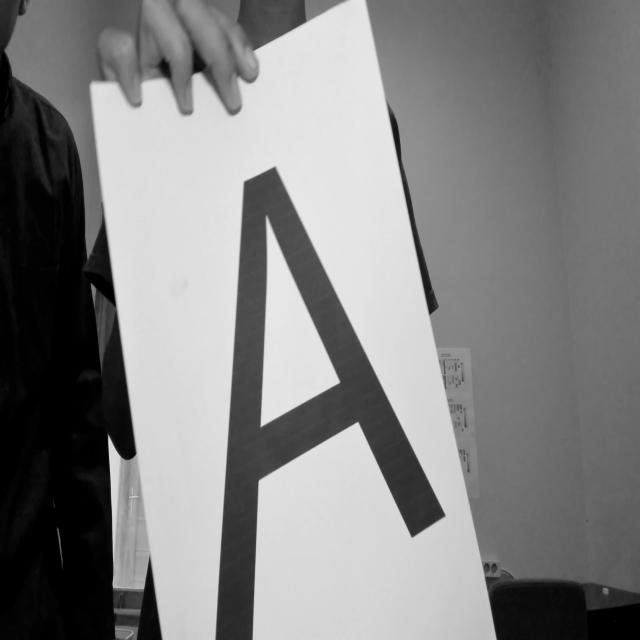a: (165, 130, 476, 640)
